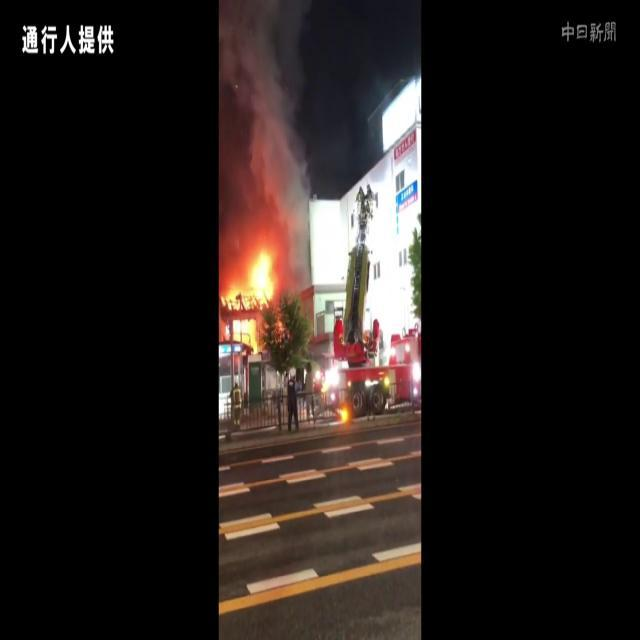Fire: (220, 240, 282, 348)
Smoke: (219, 0, 315, 257)
